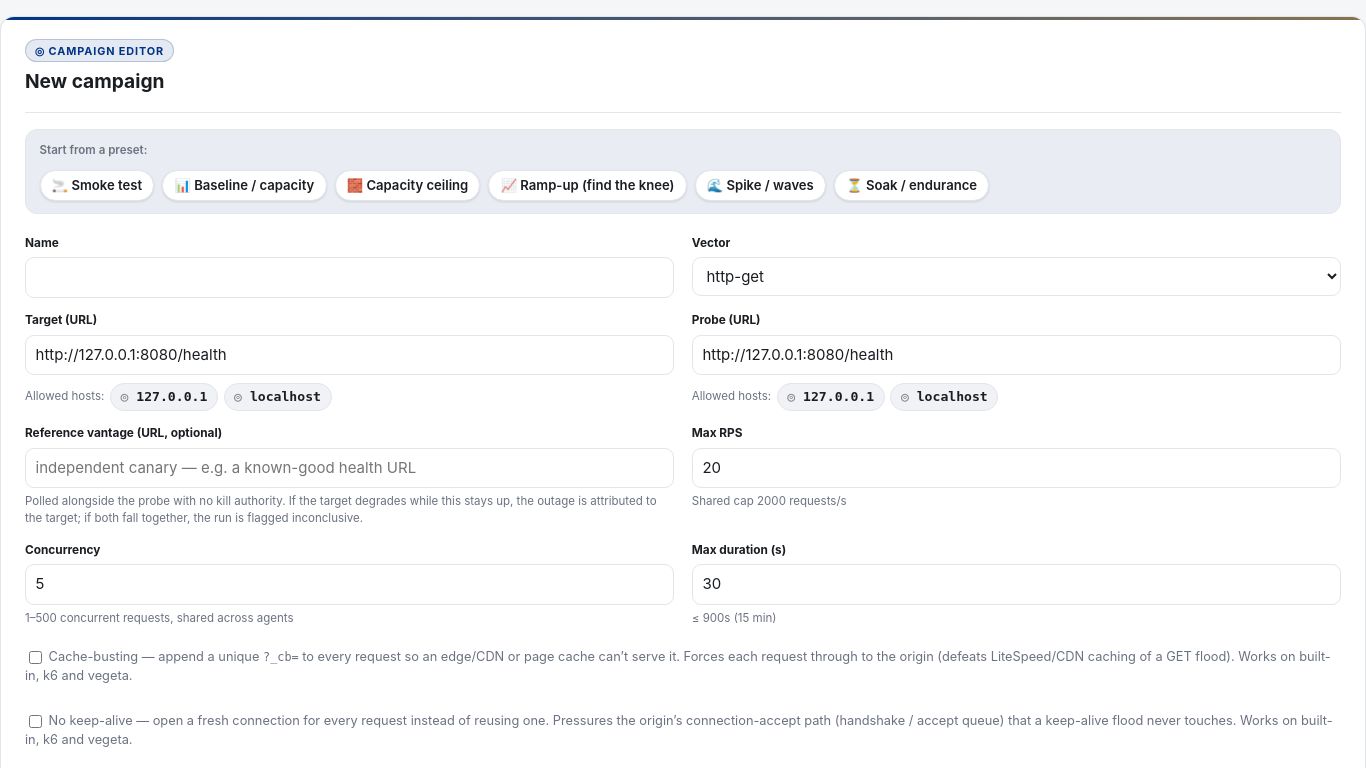
Test: NewCampaignForm › predicts an auto-route for a simple high-rate flood
The image size is (1366, 768).
Replace the text in the number field labelled "Max RPS" with "800". click: (1016, 468)
box: [692,448,1341,488]
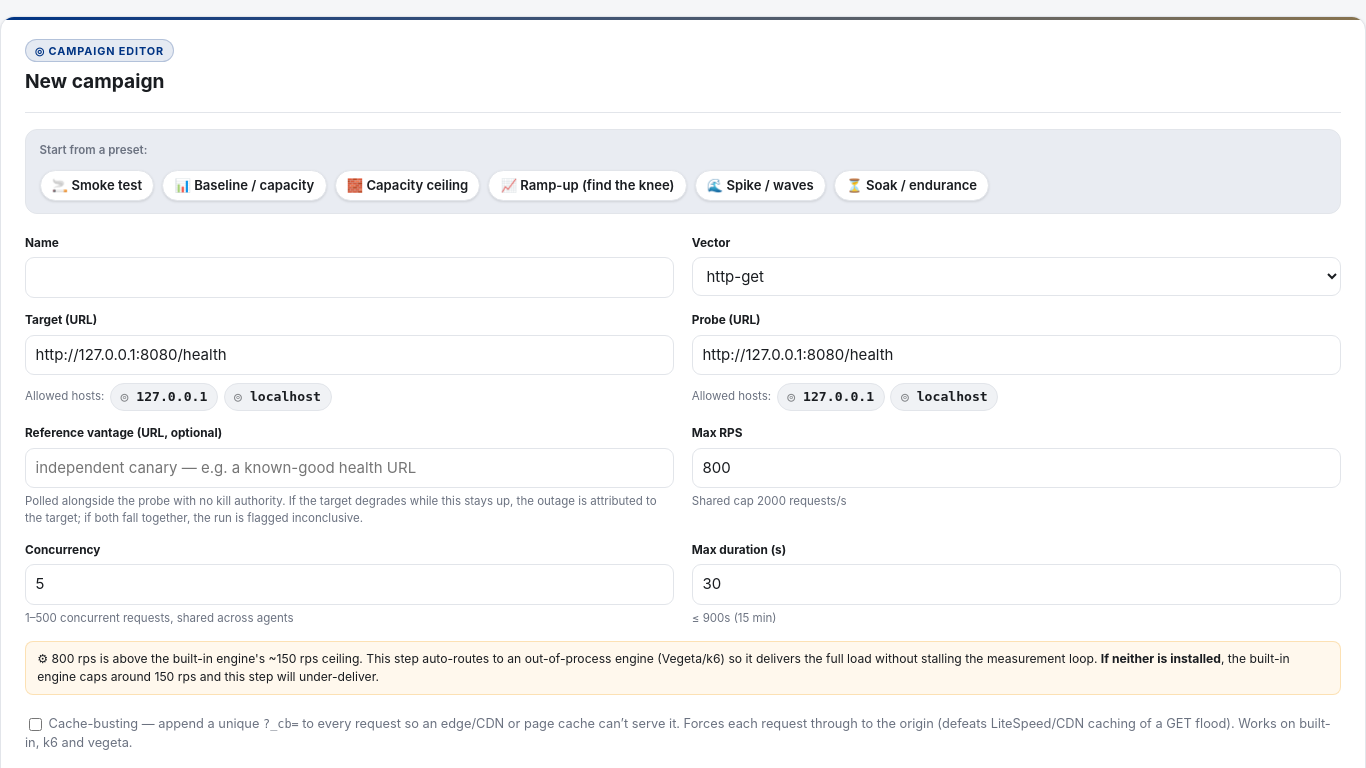
Now the text "auto-routes to an out-of-process engine" is shown, box [359,651,1101,666]
